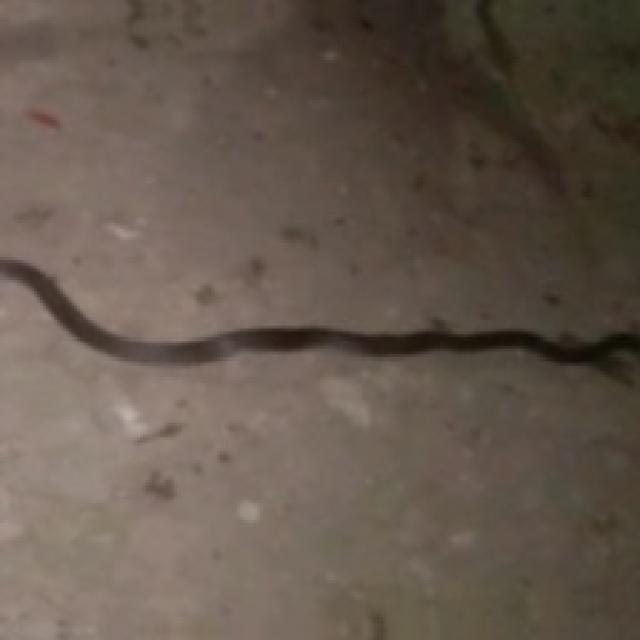king cobra: (0, 257, 637, 371)
